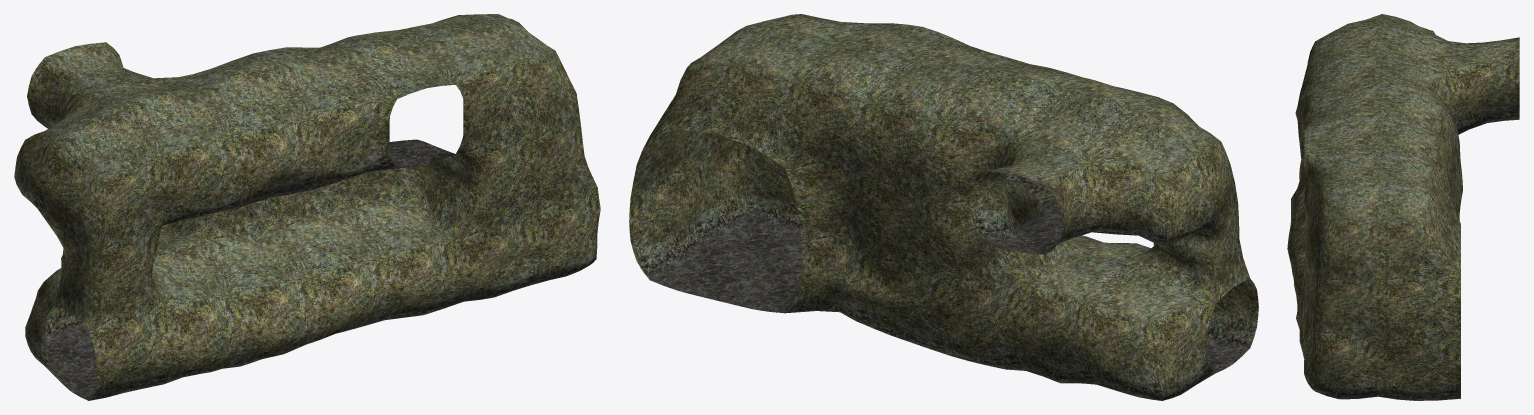
The model's file is thm_all_cave_s03_damprock_mirror_r11_r11.fbx.
The picture shows the model from 3 angles, left to right: view 1: azimuth 30°, elevation 25°; view 2: azimuth 150°, elevation 25°; view 3: azimuth 270°, elevation 25°; orthographic projection. The views are drawn at different scales.
Visible parts, largest first — view 1: mesh_node; view 2: mesh_node; view 3: mesh_node.
Part boxes in pixels (x1,y1,x2,y2): mesh_node: [14, 14, 600, 400]; mesh_node: [629, 14, 1258, 400]; mesh_node: [1287, 14, 1519, 400].
Bounding box in the file's own units: 58.69 × 27.21 × 26.24.
